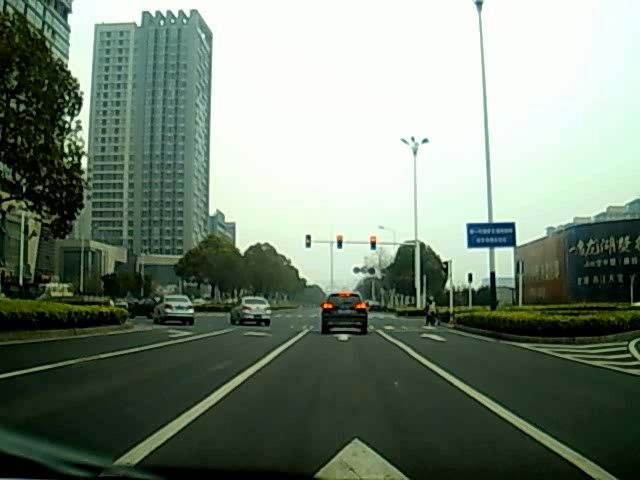Traffic_Light_stop: (336, 235, 343, 254), (370, 236, 376, 252)
